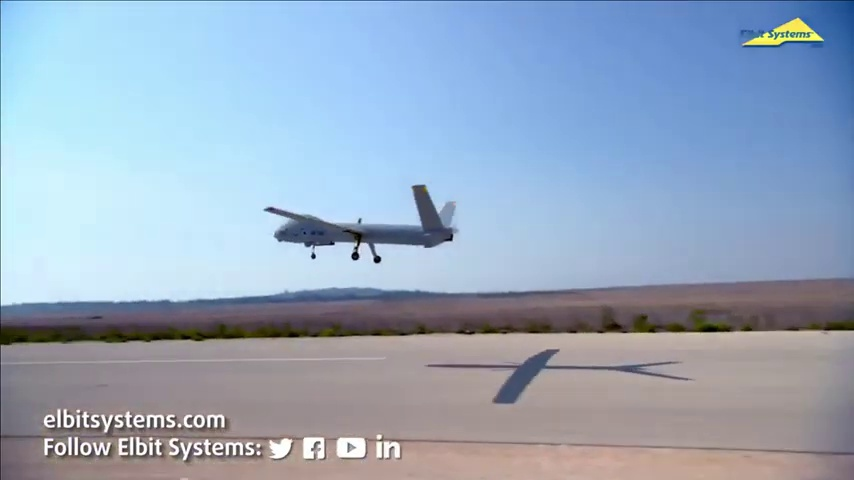military drone: (262, 183, 460, 263)
